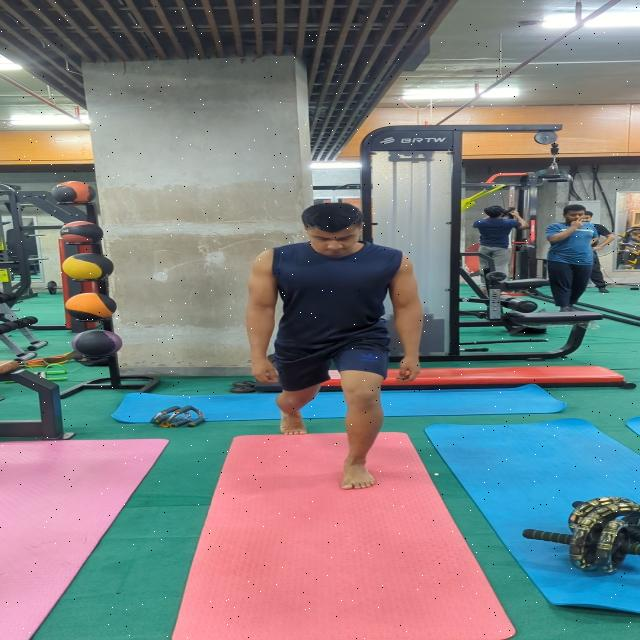Normal_Lunges: (244, 200, 426, 490)
